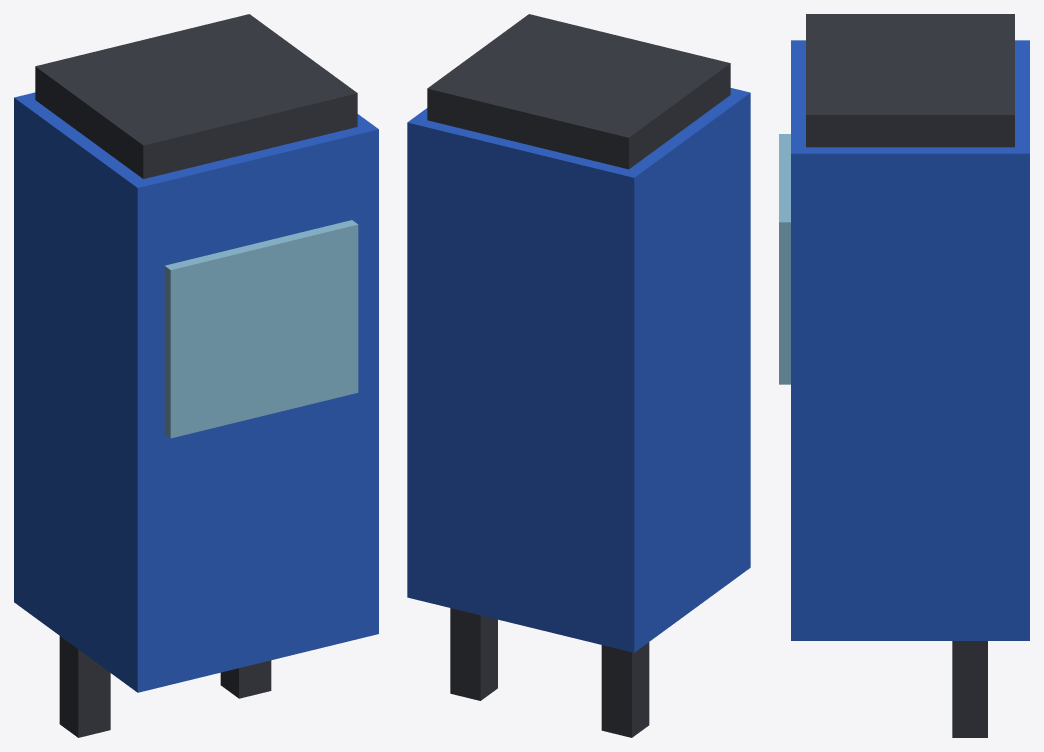
File: newspaper_box.glb
3 renders of one model, left to right at view 1: azimuth 30°, elevation 25°; view 2: azimuth 150°, elevation 25°; view 3: azimuth 270°, elevation 25°, orthographic. The views are drawn at different scales.
Parts seen in each view (by area): view 1: newspaper_box; view 2: newspaper_box; view 3: newspaper_box.
Part boxes in pixels (bbox=[...]): newspaper_box: bbox=[14, 14, 378, 737]; newspaper_box: bbox=[407, 14, 750, 737]; newspaper_box: bbox=[779, 14, 1029, 737].
Size of the model in its own units: 0.45 by 1.16 by 0.42.
